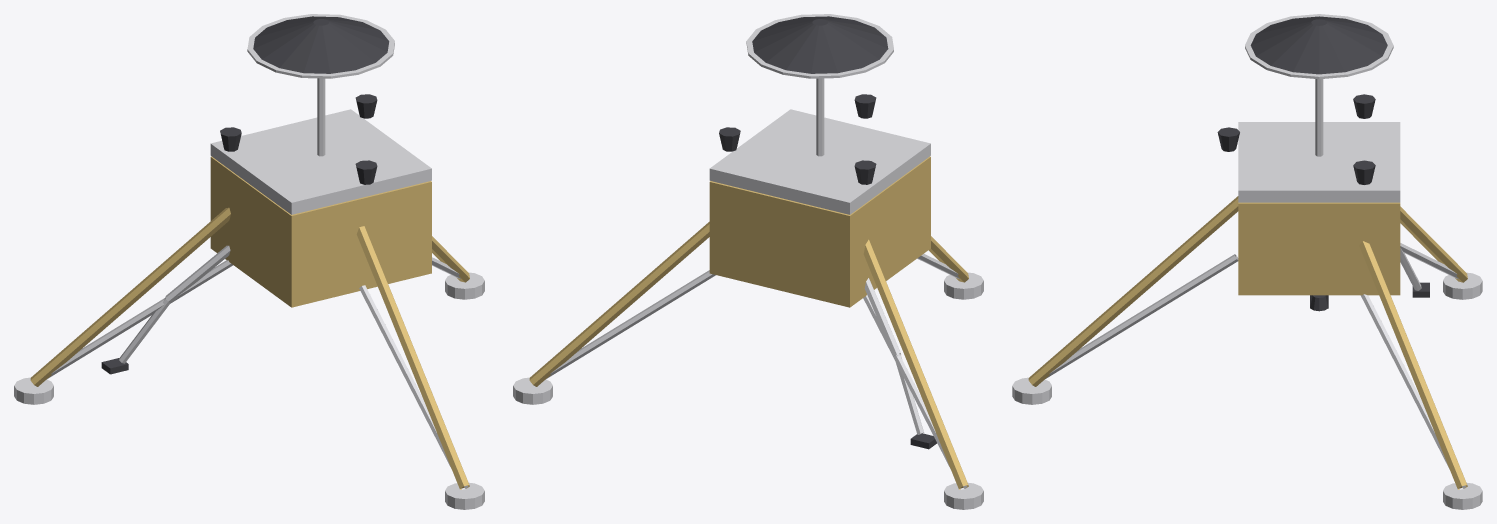
File: surveyor-3.gltf
3 renders of one model, left to right at view 1: azimuth 30°, elevation 25°; view 2: azimuth 150°, elevation 25°; view 3: azimuth 270°, elevation 25°, orthographic.
Visible parts, largest first — view 1: gold, surveyor-3, dark; view 2: gold, surveyor-3, dark; view 3: gold, surveyor-3, dark.
Boxes of the visible parts, x1,y1,x2,y2 form: gold: [30, 156, 469, 489]; surveyor-3: [14, 14, 484, 509]; dark: [101, 16, 389, 374]; gold: [529, 156, 968, 489]; surveyor-3: [513, 14, 983, 509]; dark: [719, 16, 936, 449]; gold: [1028, 196, 1467, 489]; surveyor-3: [1012, 14, 1482, 509]; dark: [1217, 16, 1429, 311].
Bounding box in the file's own units: 4.04 × 3.11 × 3.54.
